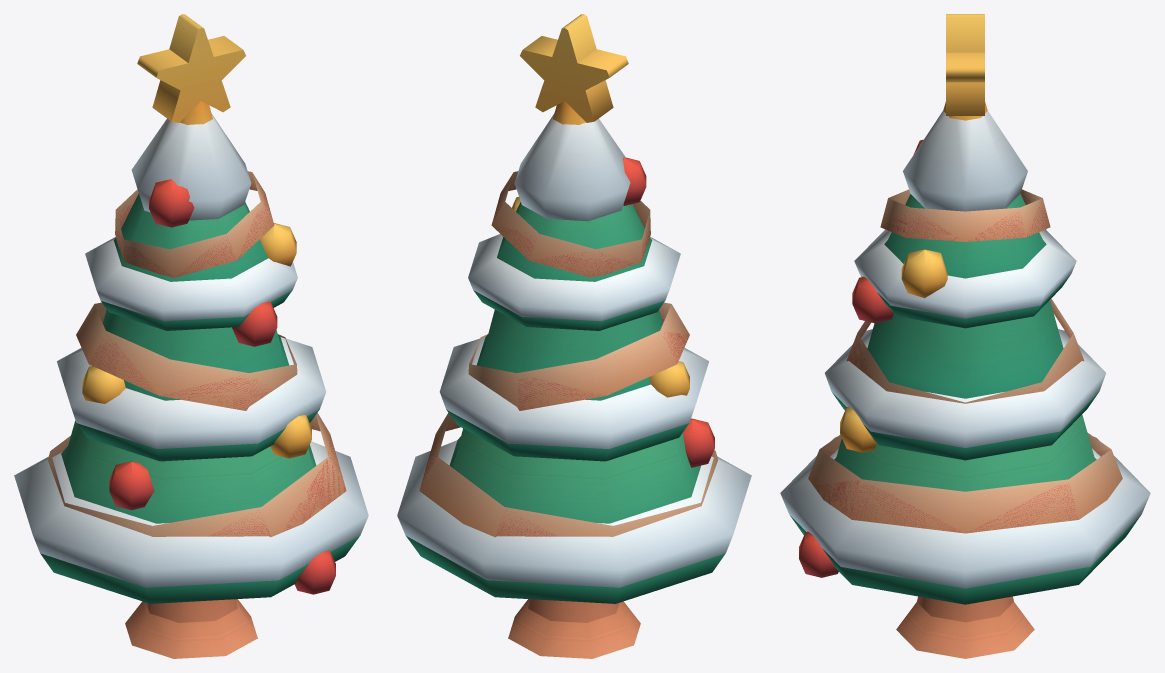
File: tree-decorated-snow.glb
3 renders of one model, left to right at view 1: azimuth 30°, elevation 25°; view 2: azimuth 150°, elevation 25°; view 3: azimuth 270°, elevation 25°, orthographic.
Visible parts, largest first — view 1: tree-decorated-snow; view 2: tree-decorated-snow; view 3: tree-decorated-snow.
Boxes of the visible parts, <box> form: tree-decorated-snow: <box>14,14,368,658</box>; tree-decorated-snow: <box>397,14,751,658</box>; tree-decorated-snow: <box>780,14,1150,658</box>.
Bounding box in the file's own units: 1.25 × 2.29 × 1.25.
1 material, 1 textured.
